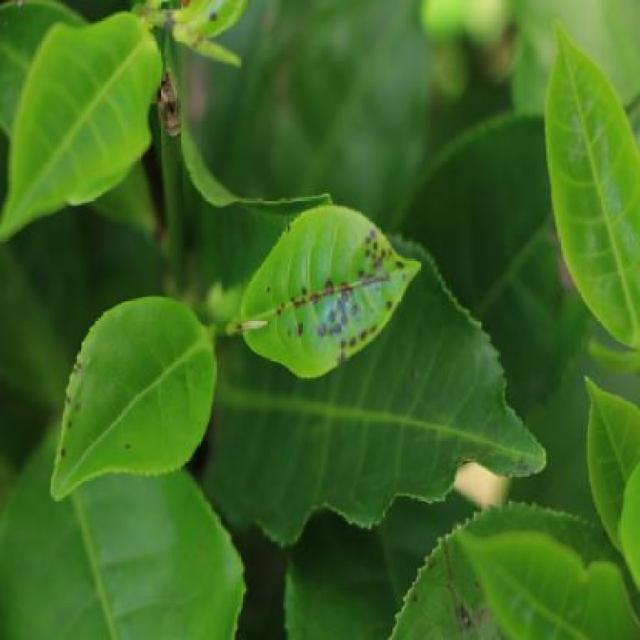Tea Mosquito bug infested leaf: (238, 206, 428, 374), (43, 297, 206, 492)
